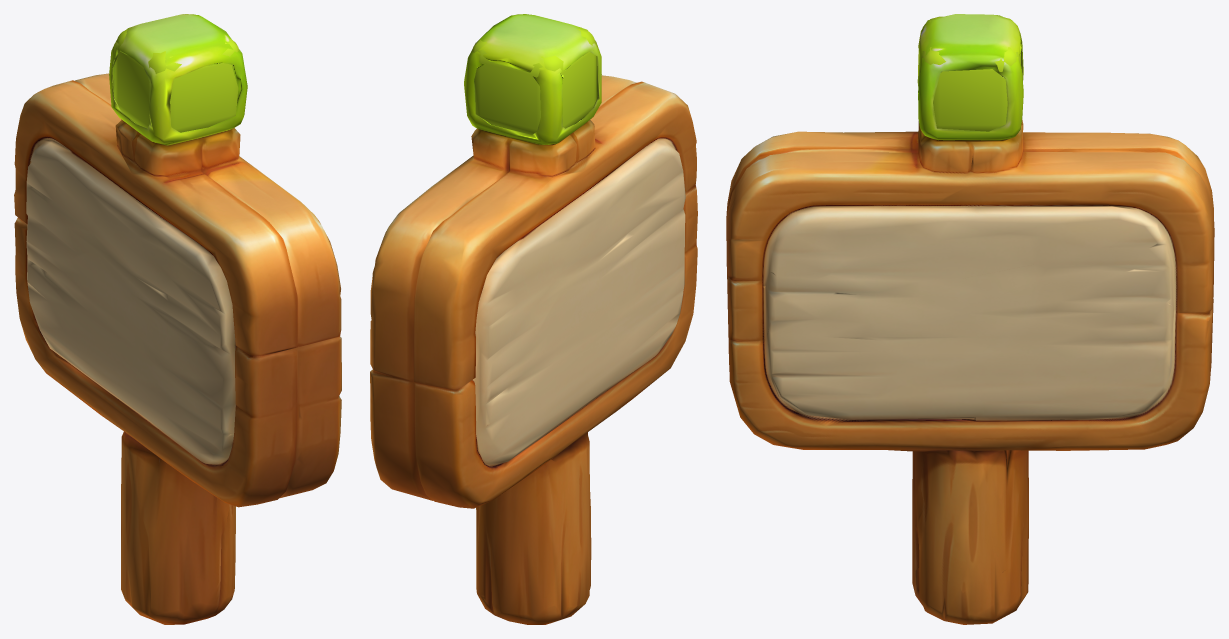
File: Kit_M_SignPost_fill.glb
3 views of the same model, side by side, from view 1: azimuth 30°, elevation 25°; view 2: azimuth 150°, elevation 25°; view 3: azimuth 270°, elevation 25° (orthographic).
Visible parts, largest first — view 1: tripo_node_f9482ebb-c51b-4647-a316-077ab02a57c4; view 2: tripo_node_f9482ebb-c51b-4647-a316-077ab02a57c4; view 3: tripo_node_f9482ebb-c51b-4647-a316-077ab02a57c4.
Boxes of the visible parts, x1=… form: tripo_node_f9482ebb-c51b-4647-a316-077ab02a57c4: x1=14, y1=14, x2=341, y2=624; tripo_node_f9482ebb-c51b-4647-a316-077ab02a57c4: x1=370, y1=14, x2=697, y2=624; tripo_node_f9482ebb-c51b-4647-a316-077ab02a57c4: x1=726, y1=14, x2=1214, y2=624.
Size of the model in its own units: 0.1987 by 1 by 0.7593.
1 material, 1 textured.
